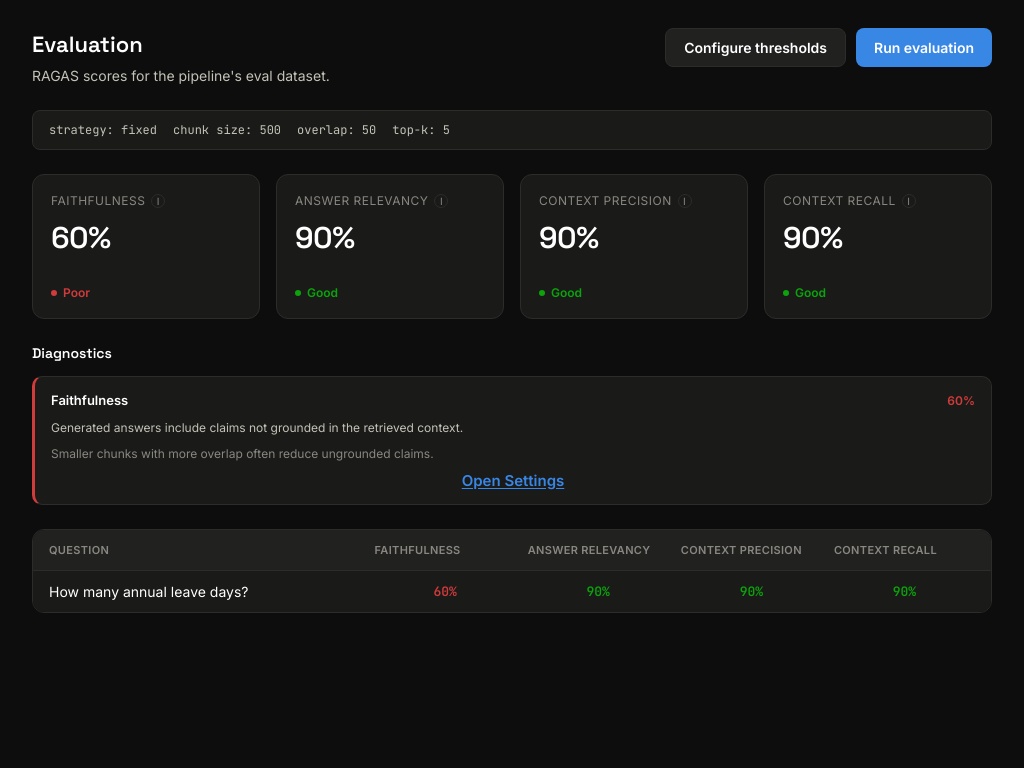
Test: EvaluationView › surfaces a failed run without crashing
Click the button "Run evaluation" at (924,48), box x1=856 y1=28 x2=992 y2=67
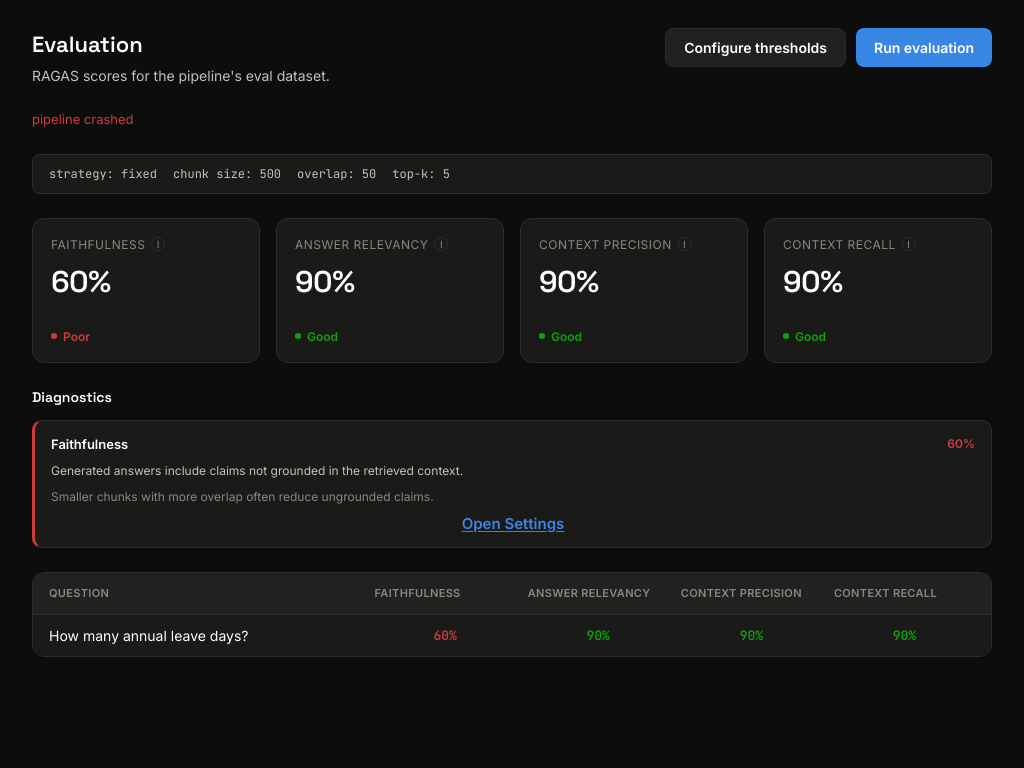
Check: the text "pipeline crashed" is shown, box x1=32 y1=111 x2=134 y2=127
